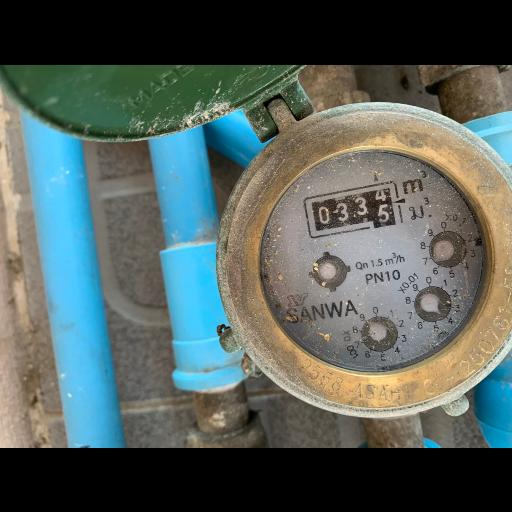0: (311, 199, 335, 232)
3: (347, 191, 373, 225), (329, 196, 353, 229)
5: (368, 188, 396, 228)
border_water_meter_number: (303, 179, 404, 239)
